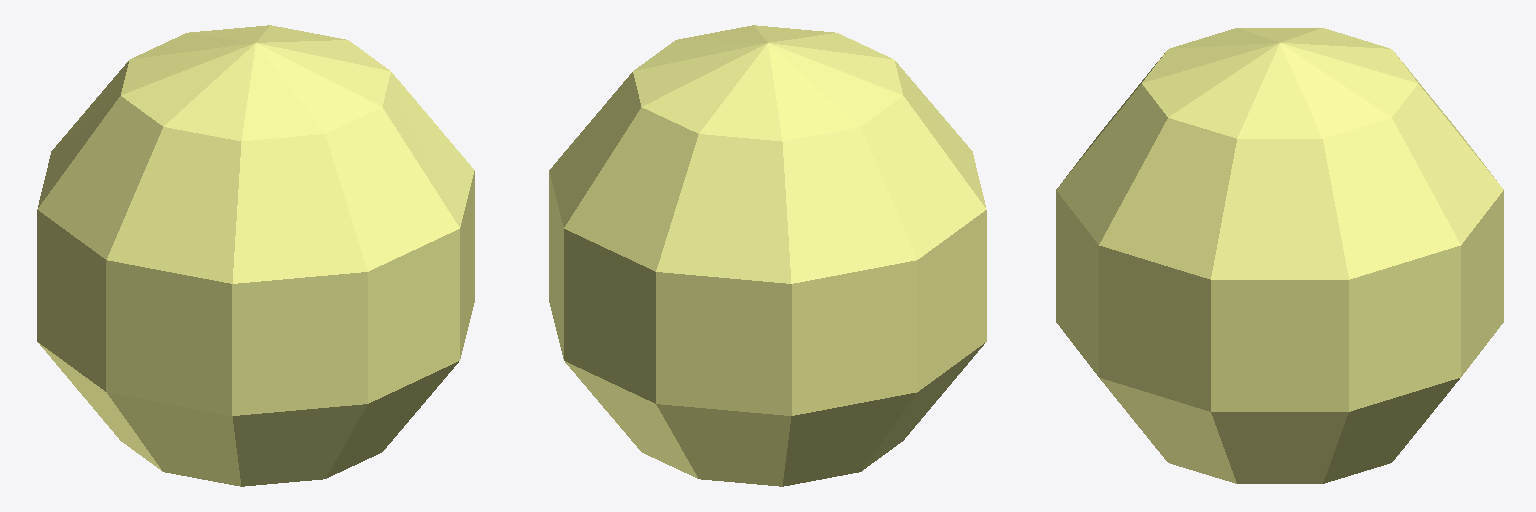
3 views of the same model, side by side, from view 1: azimuth 30°, elevation 25°; view 2: azimuth 150°, elevation 25°; view 3: azimuth 270°, elevation 25° (orthographic).
Visible parts, largest first — view 1: Sphere001; view 2: Sphere001; view 3: Sphere001.
Part boxes in pixels (bbox=[...]): Sphere001: bbox=[37, 25, 474, 486]; Sphere001: bbox=[549, 25, 986, 486]; Sphere001: bbox=[1056, 28, 1503, 483].
Bounding box in the file's own units: 0.0904 × 0.1 × 0.0952.
Materials: 1 (1 with a texture image).